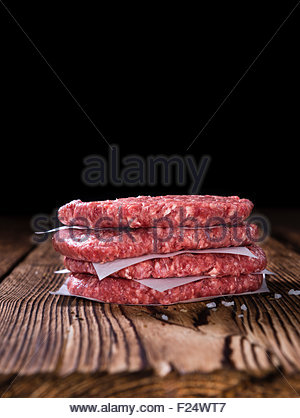ground_beef: (55, 186, 272, 306)
